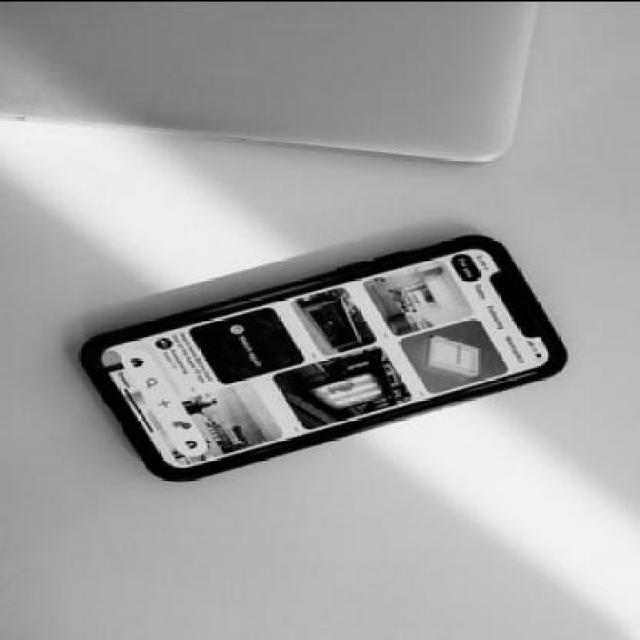fake: (82, 232, 572, 482)
